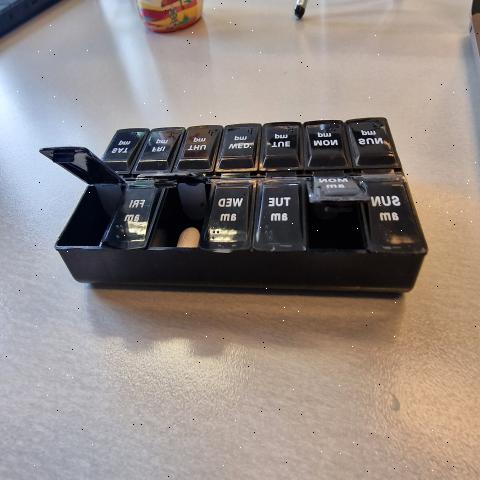Open: (37, 145, 125, 247), (138, 171, 213, 248), (305, 186, 370, 250)
